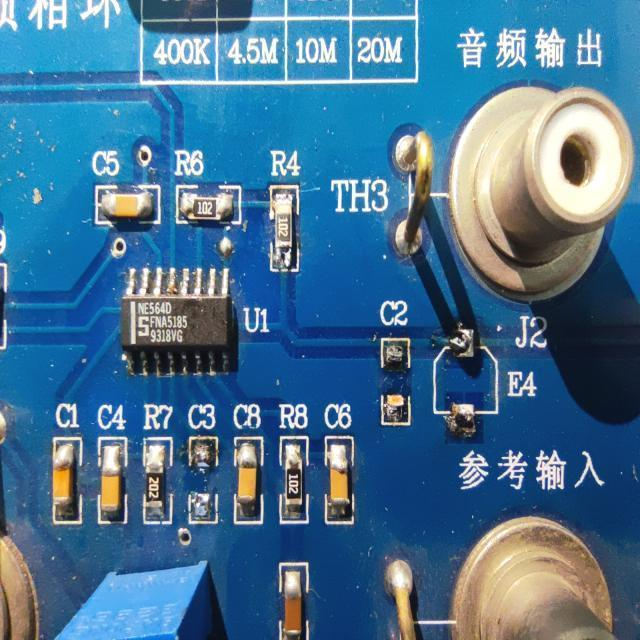Missing component: (426, 320, 537, 450), (182, 398, 226, 536), (375, 294, 414, 432)
